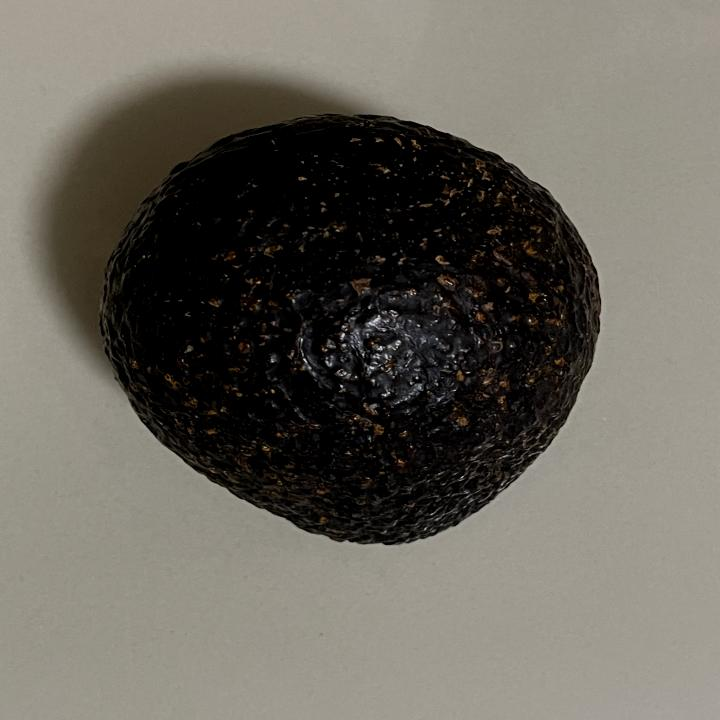Level2: (90, 110, 608, 550)
